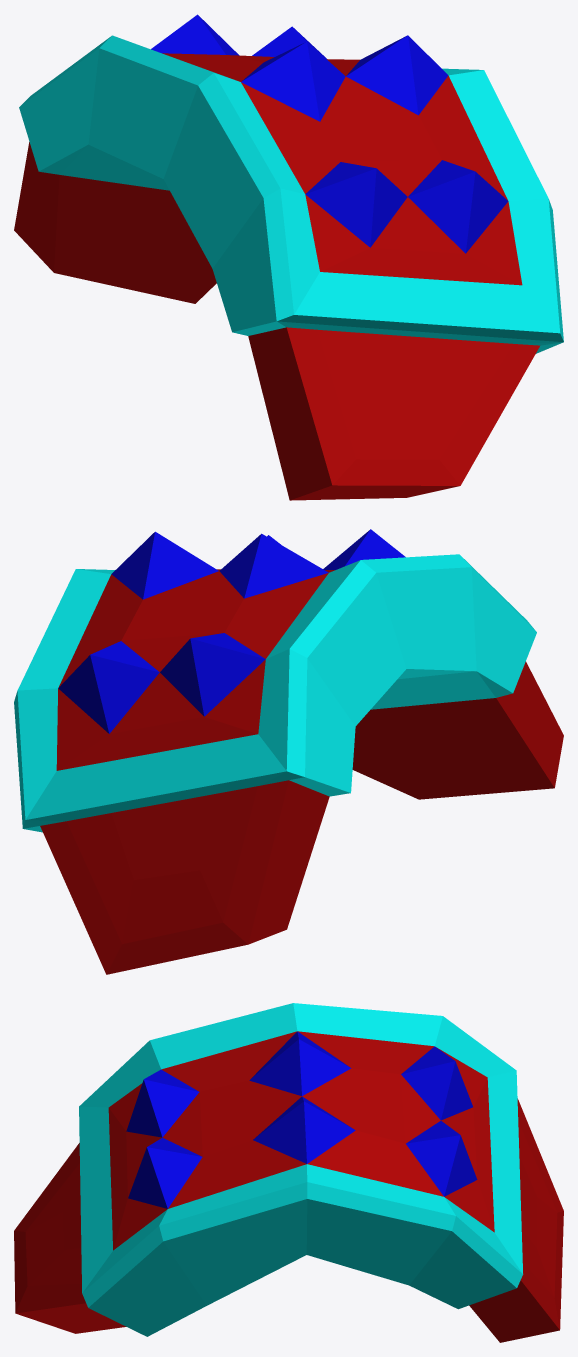
Rendered from Chr_ShoulderAttachLeft_Static_03.fbx.
3 renders of one model, top to bottom at view 1: azimuth 30°, elevation 25°; view 2: azimuth 150°, elevation 25°; view 3: azimuth 270°, elevation 25°, orthographic. The views are drawn at different scales.
Visible parts, largest first — view 1: Chr_ShoulderAttachLeft_03; view 2: Chr_ShoulderAttachLeft_03; view 3: Chr_ShoulderAttachLeft_03.
Boxes of the visible parts, x1,y1,x2,y2 form: Chr_ShoulderAttachLeft_03: [14, 14, 563, 500]; Chr_ShoulderAttachLeft_03: [14, 529, 563, 974]; Chr_ShoulderAttachLeft_03: [14, 1003, 563, 1342].
Size of the model in its own units: 21.94 by 20.29 by 32.94.
